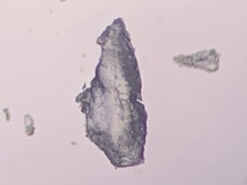microplastic: (75, 14, 153, 171), (172, 47, 222, 75), (21, 111, 40, 139)
